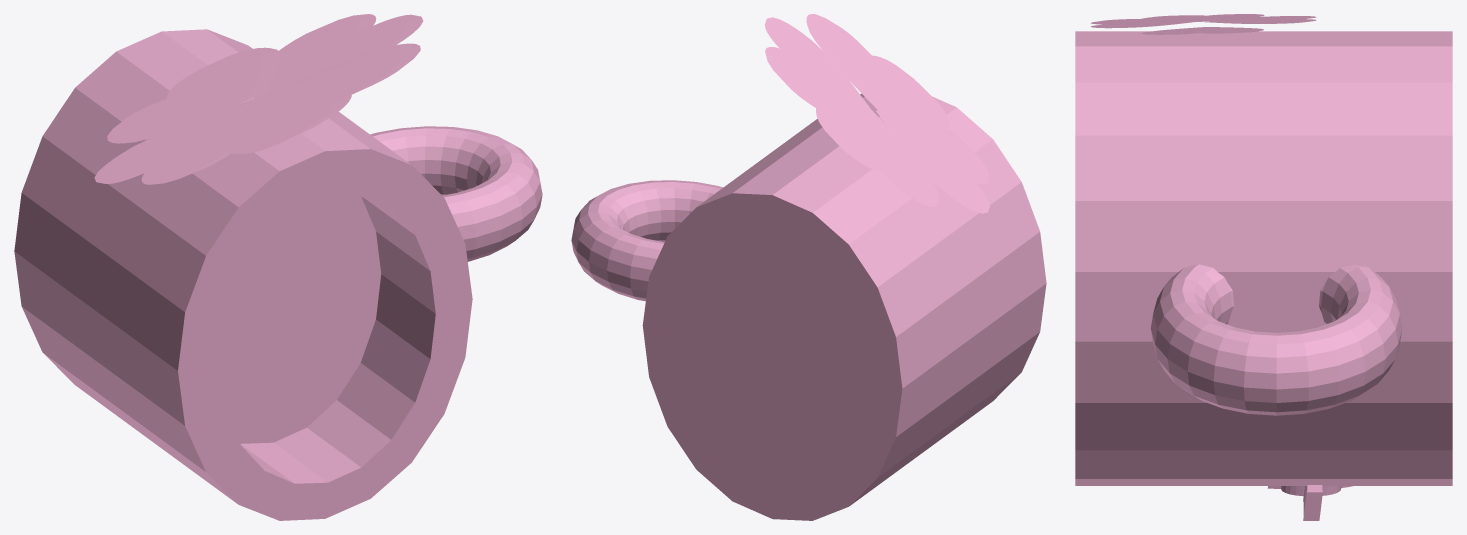
File: tinker.obj
3 renders of one model, left to right at view 1: azimuth 30°, elevation 25°; view 2: azimuth 150°, elevation 25°; view 3: azimuth 270°, elevation 25°, orthographic. The views are drawn at different scales.
Parts seen in each view (by area): view 1: obj_0; view 2: obj_0; view 3: obj_0.
Boxes of the visible parts, x1,y1,x2,y2 form: obj_0: [14, 14, 542, 520]; obj_0: [571, 14, 1046, 520]; obj_0: [1075, 14, 1452, 520].
Size of the model in its own units: 39.42 by 38.33 by 25.
